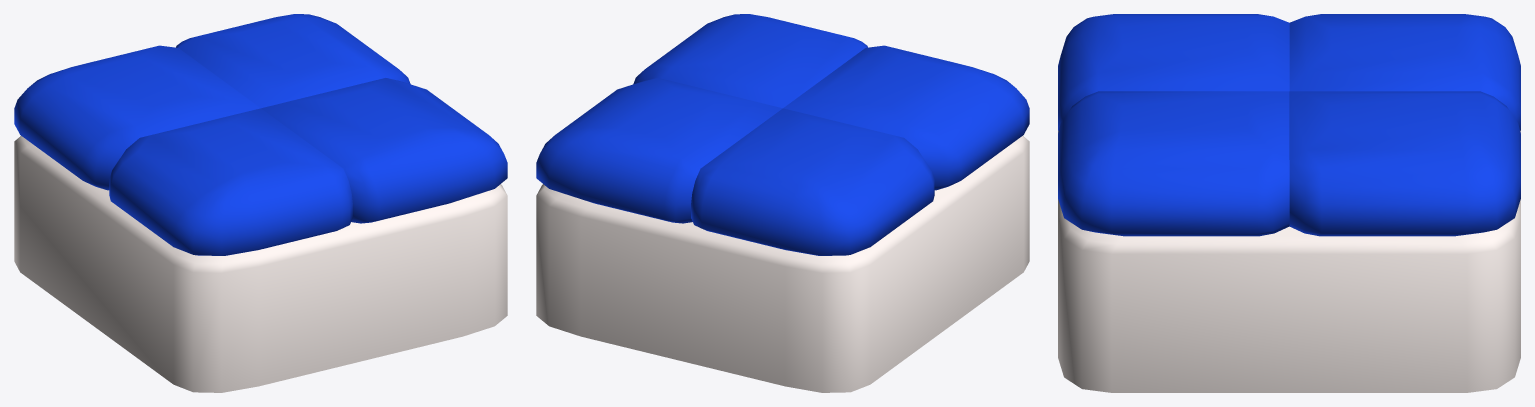
The model's file is ghe 06.FBX.
The picture shows the model from 3 angles, left to right: view 1: azimuth 30°, elevation 25°; view 2: azimuth 150°, elevation 25°; view 3: azimuth 270°, elevation 25°; orthographic projection. The views are drawn at different scales.
Visible parts, largest first — view 1: Object1238; view 2: Object1238; view 3: Object1238.
Boxes of the visible parts, x1,y1,x2,y2 form: Object1238: (14, 14, 507, 392); Object1238: (536, 14, 1029, 392); Object1238: (1058, 14, 1520, 392).
Size of the model in its own units: 1.49 by 0.8297 by 1.57.
